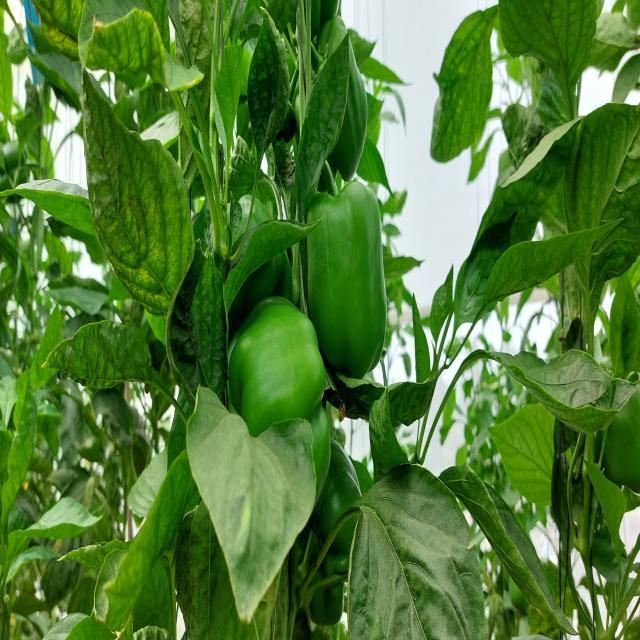Green--Not-ready-to-harvest: (230, 307, 328, 528), (308, 195, 387, 378), (308, 16, 372, 170)
